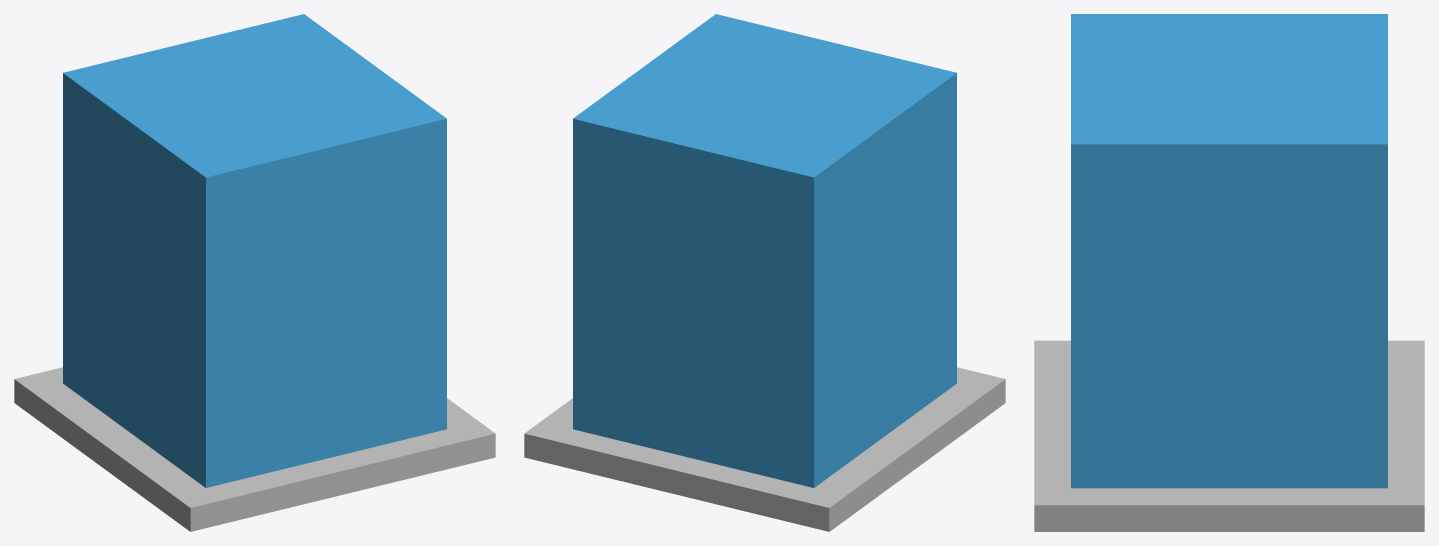
File: building4.fbx
3 views of the same model, side by side, from view 1: azimuth 30°, elevation 25°; view 2: azimuth 150°, elevation 25°; view 3: azimuth 270°, elevation 25° (orthographic). The views are drawn at different scales.
Parts seen in each view (by area): view 1: Empty_Tile.009, Empty_Tile.014; view 2: Empty_Tile.009, Empty_Tile.014; view 3: Empty_Tile.009, Empty_Tile.014.
Part boxes in pixels (x1=…): Empty_Tile.009: x1=63, y1=14, x2=446, y2=487; Empty_Tile.014: x1=14, y1=367, x2=495, y2=531; Empty_Tile.009: x1=573, y1=14, x2=956, y2=487; Empty_Tile.014: x1=524, y1=367, x2=1005, y2=531; Empty_Tile.009: x1=1071, y1=14, x2=1387, y2=488; Empty_Tile.014: x1=1034, y1=340, x2=1424, y2=531.
Bounding box in the file's own units: 800 × 838 × 800.
